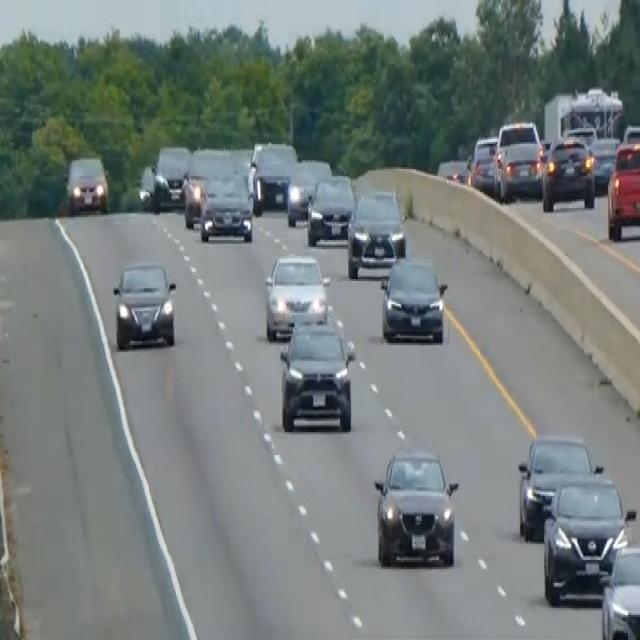car: (541, 470, 633, 604), (278, 309, 356, 432), (516, 432, 598, 540), (111, 258, 177, 350), (379, 254, 447, 343), (263, 250, 329, 340), (346, 187, 406, 279), (492, 117, 543, 201), (541, 135, 596, 212), (199, 169, 254, 243), (599, 540, 639, 638), (306, 171, 355, 245), (250, 138, 297, 210), (286, 156, 332, 226), (181, 146, 218, 228), (153, 142, 189, 206), (588, 135, 620, 192), (468, 133, 498, 192), (134, 162, 157, 210), (436, 155, 469, 185)
jeep: (371, 442, 460, 570), (605, 135, 639, 242)
